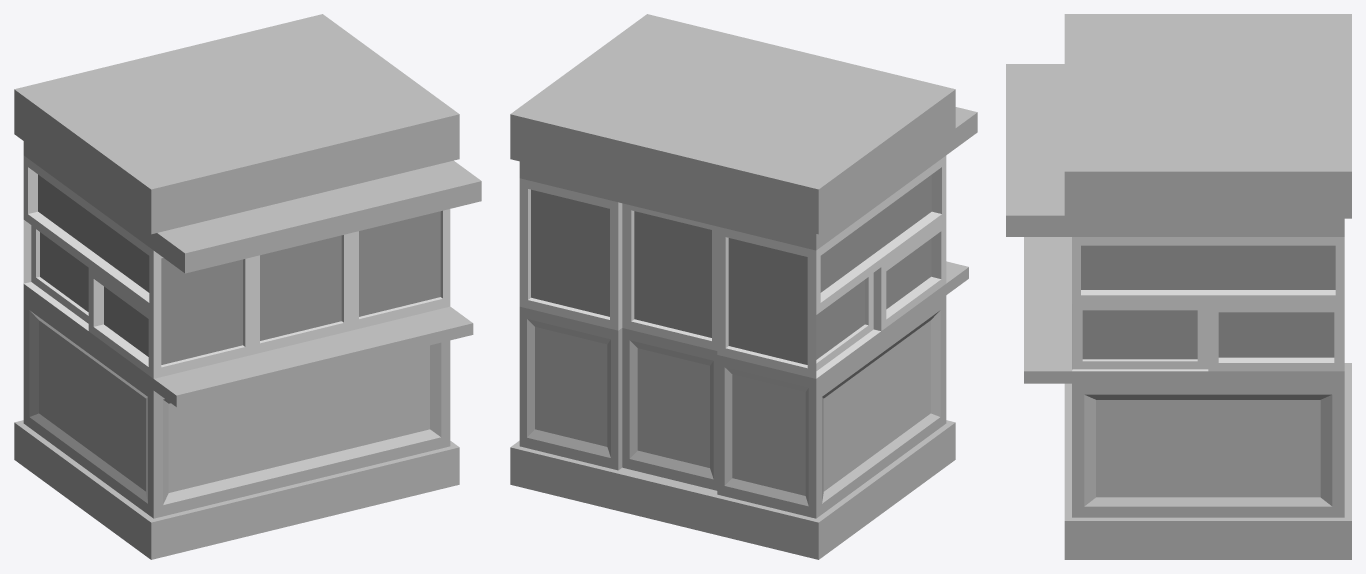
The model's file is fbx_office.fbx.
3 renders of one model, left to right at view 1: azimuth 30°, elevation 25°; view 2: azimuth 150°, elevation 25°; view 3: azimuth 270°, elevation 25°, orthographic. The views are drawn at different scales.
Parts seen in each view (by area): view 1: fbx_office; view 2: fbx_office; view 3: fbx_office.
Part boxes in pixels (x1=…): fbx_office: x1=14, y1=14, x2=481, y2=559; fbx_office: x1=510, y1=14, x2=977, y2=559; fbx_office: x1=1006, y1=14, x2=1351, y2=559.
Bounding box in the file's own units: 5.78 × 6.63 × 5.35.
2 materials, 1 textured.
